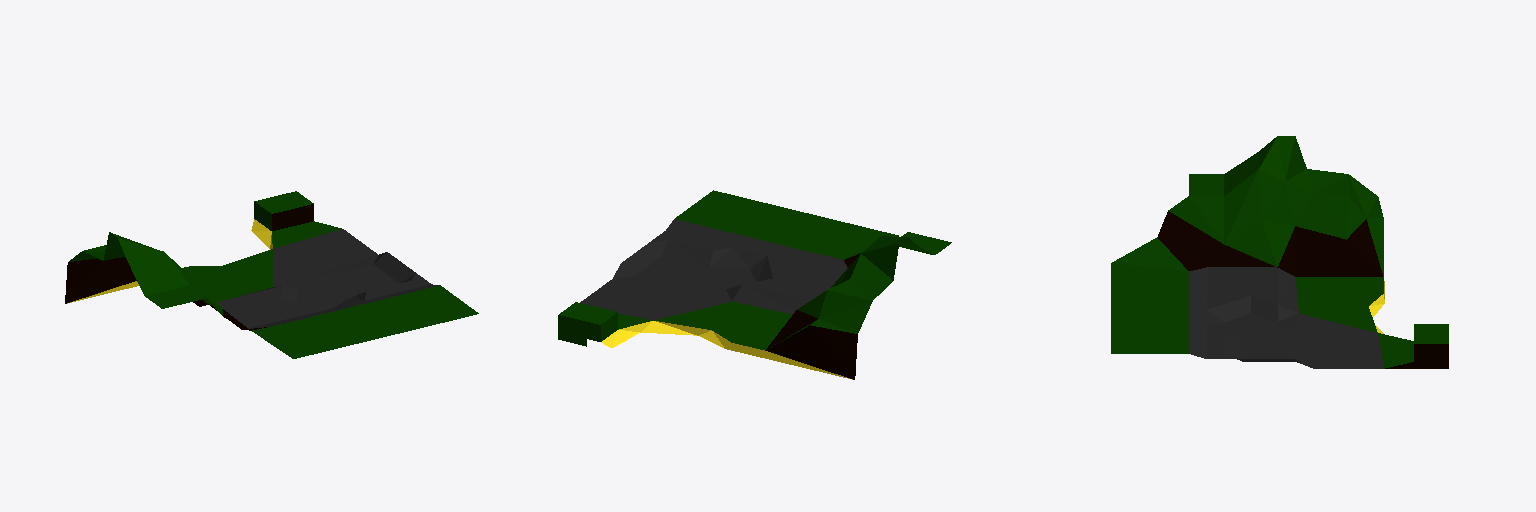
The model's file is ParHarbor_terrain.obj.
3 renders of one model, left to right at view 1: azimuth 30°, elevation 25°; view 2: azimuth 150°, elevation 25°; view 3: azimuth 270°, elevation 25°, orthographic.
Visible parts, largest first — view 1: Cube_Cube.001; view 2: Cube_Cube.001; view 3: Cube_Cube.001.
Part boxes in pixels (x1,y1,x2,y2): Cube_Cube.001: (65,191,478,358); Cube_Cube.001: (558,190,951,379); Cube_Cube.001: (1111,136,1448,368).
Bounding box in the file's own units: 111 × 40 × 117.